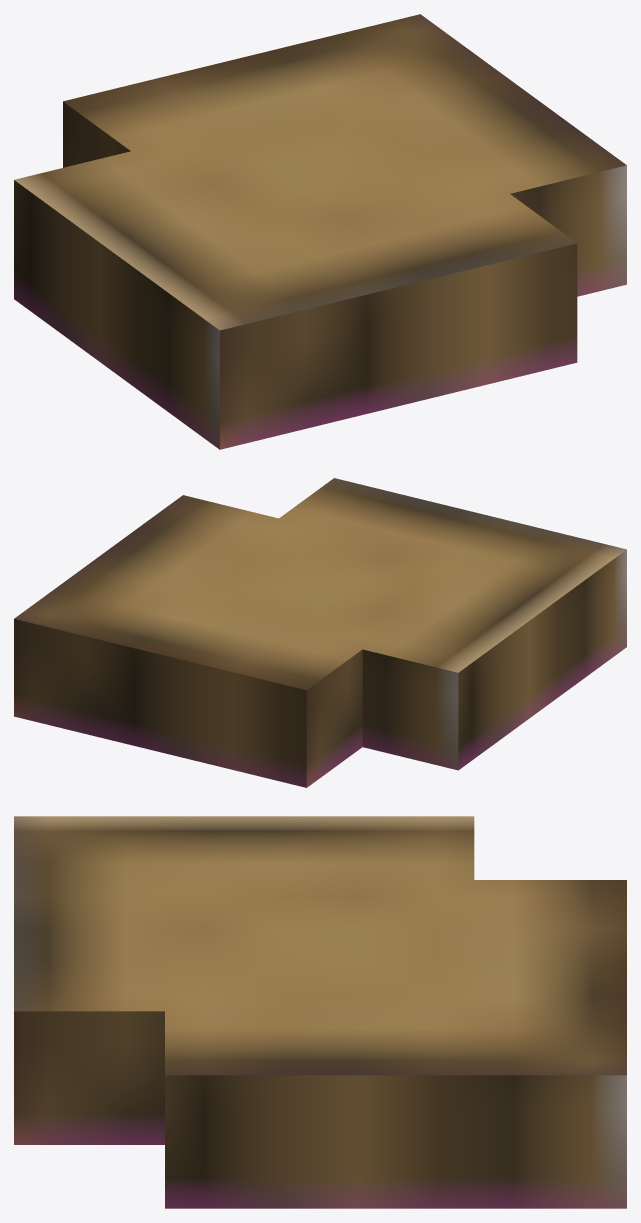
Rendered from Wood_Destroy_Step5.fbx.
3 renders of one model, top to bottom at view 1: azimuth 30°, elevation 25°; view 2: azimuth 150°, elevation 25°; view 3: azimuth 270°, elevation 25°, orthographic. The views are drawn at different scales.
Parts seen in each view (by area): view 1: Wood_Destroy_Step5; view 2: Wood_Destroy_Step5; view 3: Wood_Destroy_Step5.
Boxes of the visible parts, box(x1,y1,x2,y2) form: Wood_Destroy_Step5: box(14, 14, 626, 449); Wood_Destroy_Step5: box(14, 478, 626, 787); Wood_Destroy_Step5: box(14, 816, 626, 1208).
Size of the model in its own units: 25 by 6.01 by 25.
1 material, 1 textured.
